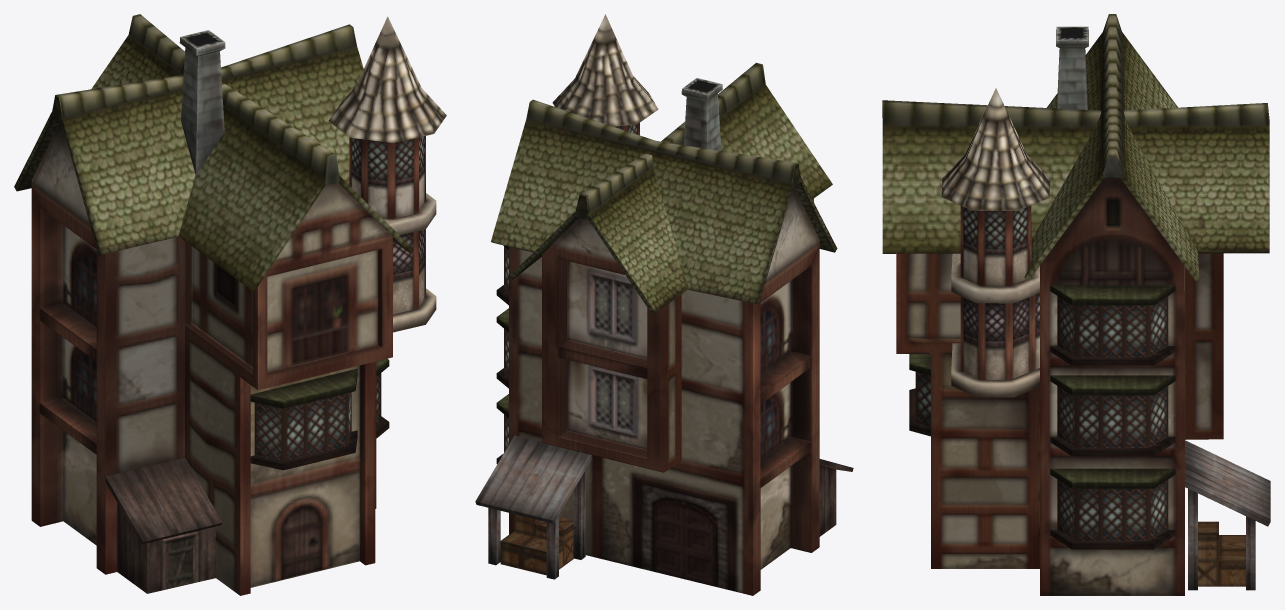
Rendered from MEB_building_05.fbx.
The picture shows the model from 3 angles, left to right: view 1: azimuth 30°, elevation 25°; view 2: azimuth 150°, elevation 25°; view 3: azimuth 270°, elevation 25°; orthographic projection. The views are drawn at different scales.
Parts seen in each view (by area): view 1: MEB_building_05; view 2: MEB_building_05; view 3: MEB_building_05.
Part boxes in pixels (bbox=[...]): MEB_building_05: bbox=[14, 14, 446, 595]; MEB_building_05: bbox=[475, 14, 853, 595]; MEB_building_05: bbox=[882, 14, 1270, 595].
Size of the model in its own units: 987 by 1513 by 1055.
